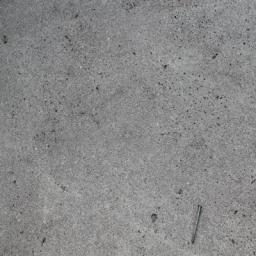FOD: (189, 203, 207, 252)
